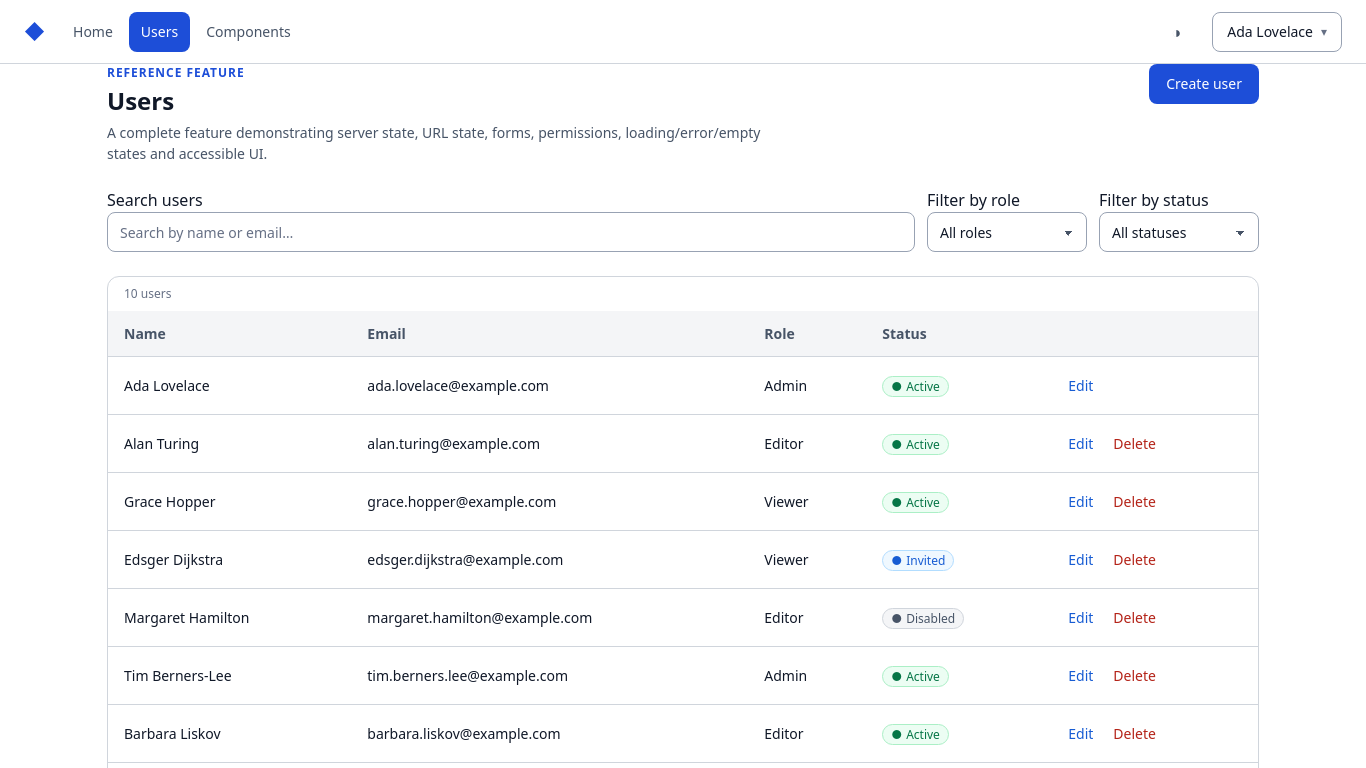
Test: UsersPage integration › delete › deletes a user after confirmation and announces it
Expected: the column heading "Alan Turing" is shown, [108,414,351,472]
Click the button "Delete" in the row of "Alan Turing" at (1135, 444), box [1103,427,1166,460]
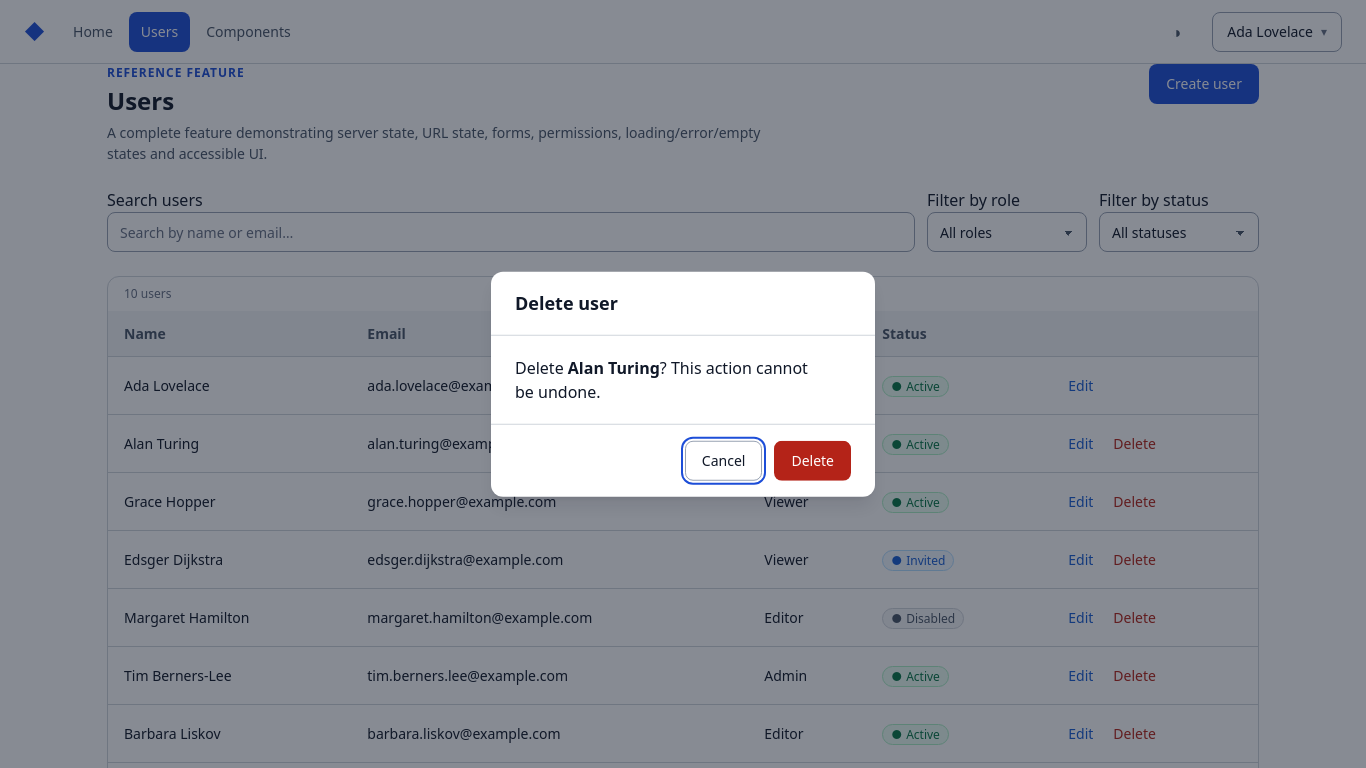
Expected: the text "Alan Turing" is shown, [568,356,660,378]
Click the button "Delete" at (813, 460), box [774,440,851,480]
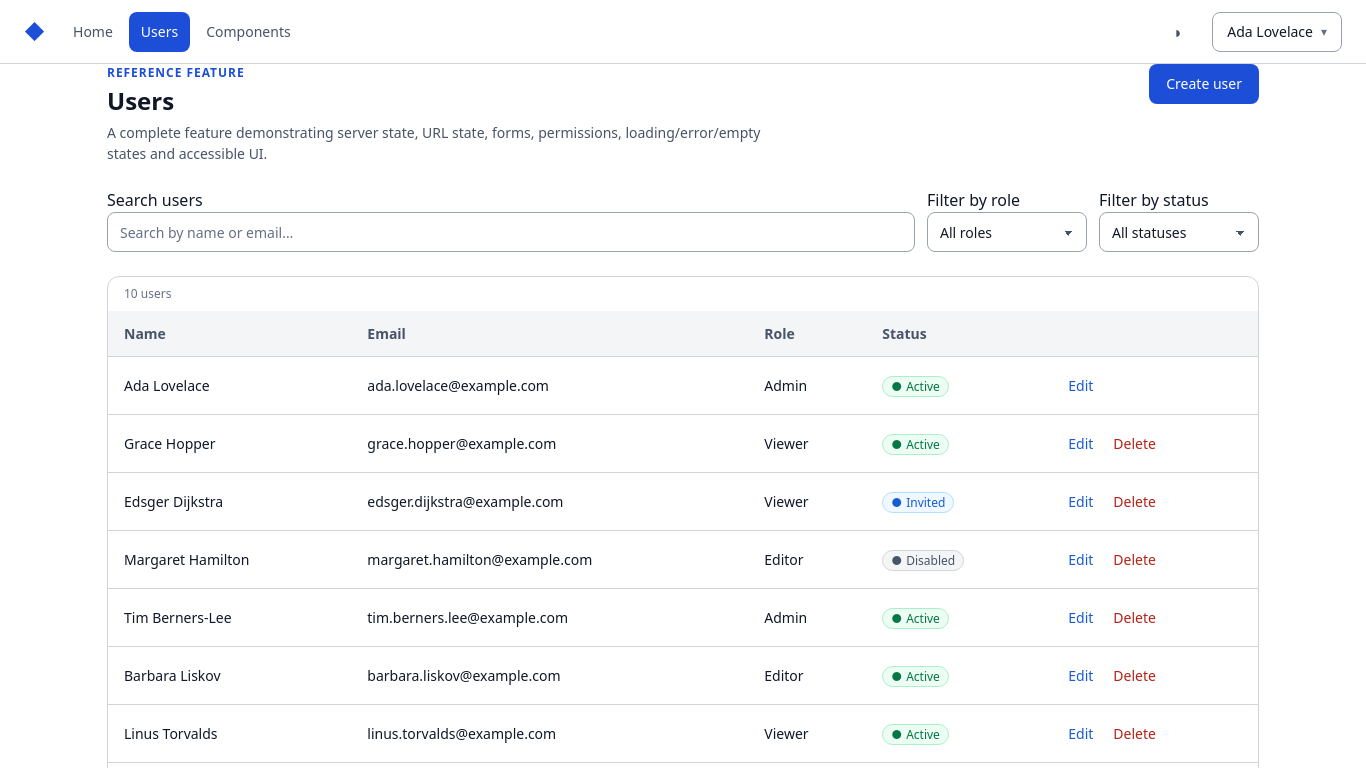
Expected: the text "10 users" is shown, [124,285,172,302]
Expected: the column heading "Alan Turing" is gone
